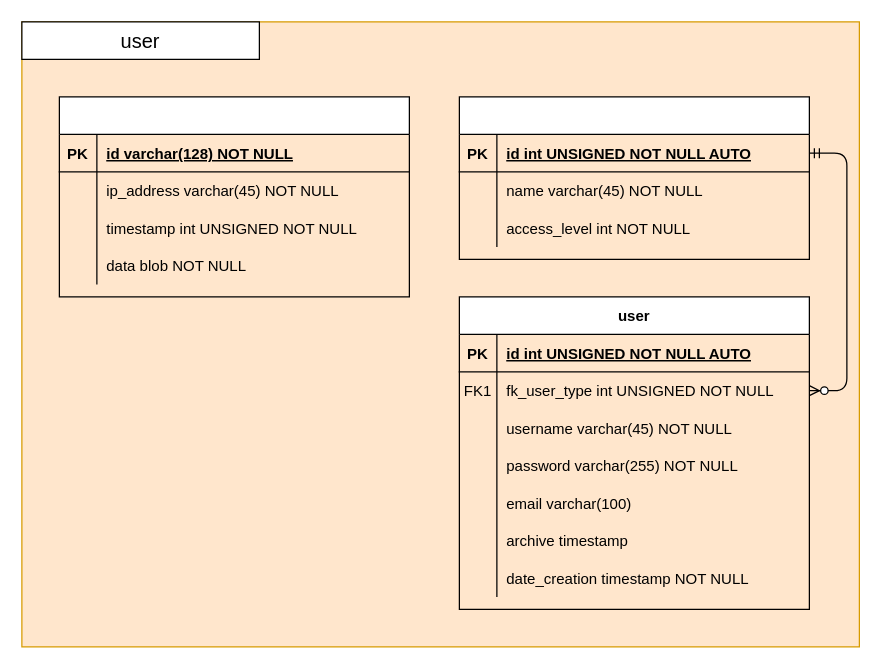
Image size: 881x669. Some labels were removed from this diagram. Here are the shapes that lost their labels. From the top down, the box of each, then its label:
(58, 96, 409, 297): ci_sessions
(458, 96, 809, 259): user_type
